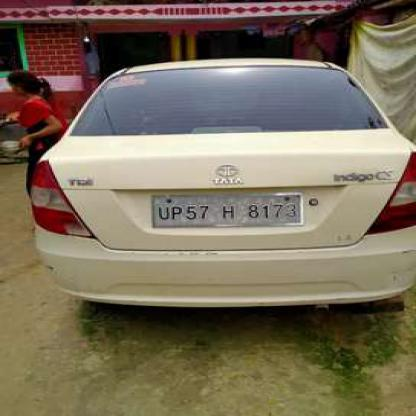license_plate: (151, 194, 300, 224)
